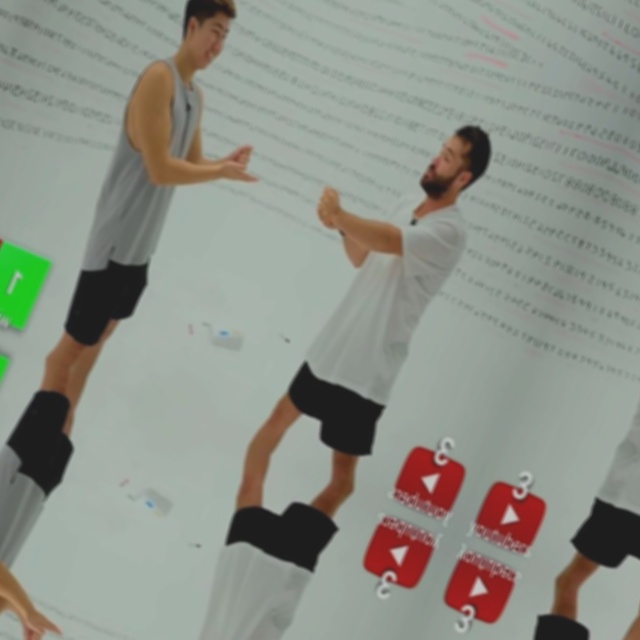Rock: (311, 183, 347, 227), (231, 140, 255, 164)
